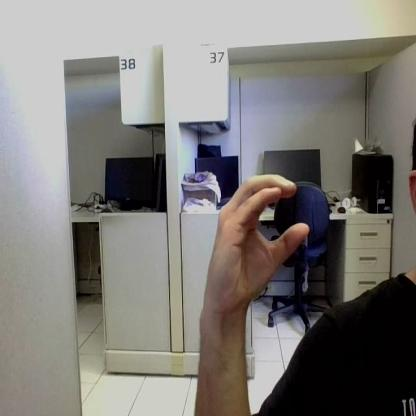C: (206, 174, 308, 287)
